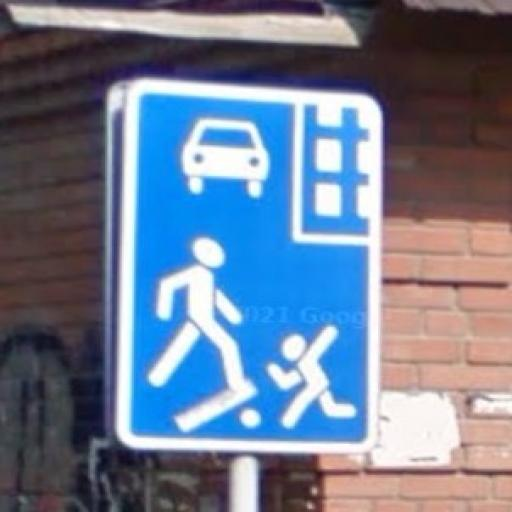traffic_sign: (120, 81, 386, 454)
